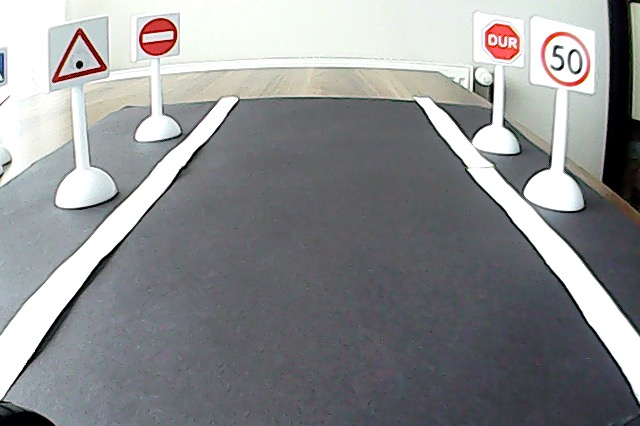do not enter: (136, 16, 180, 58)
green light: (50, 24, 110, 88)
speed limit 50: (537, 27, 592, 89)
stop sign: (479, 17, 524, 65)
